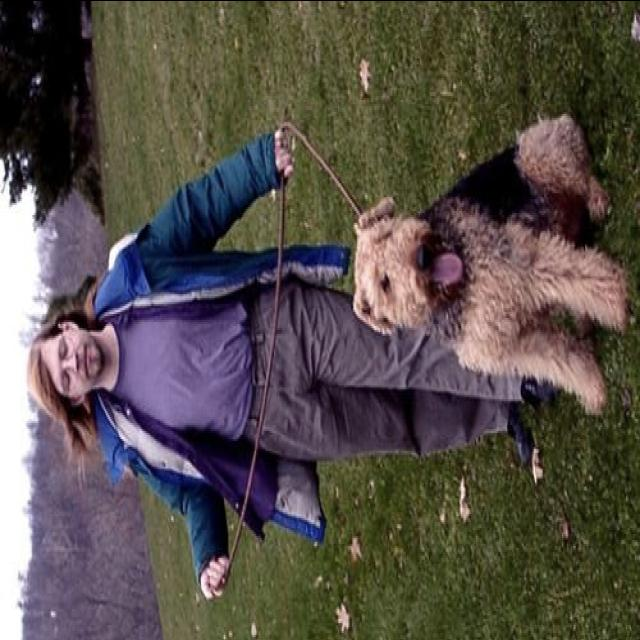airedale: (352, 115, 630, 416)
